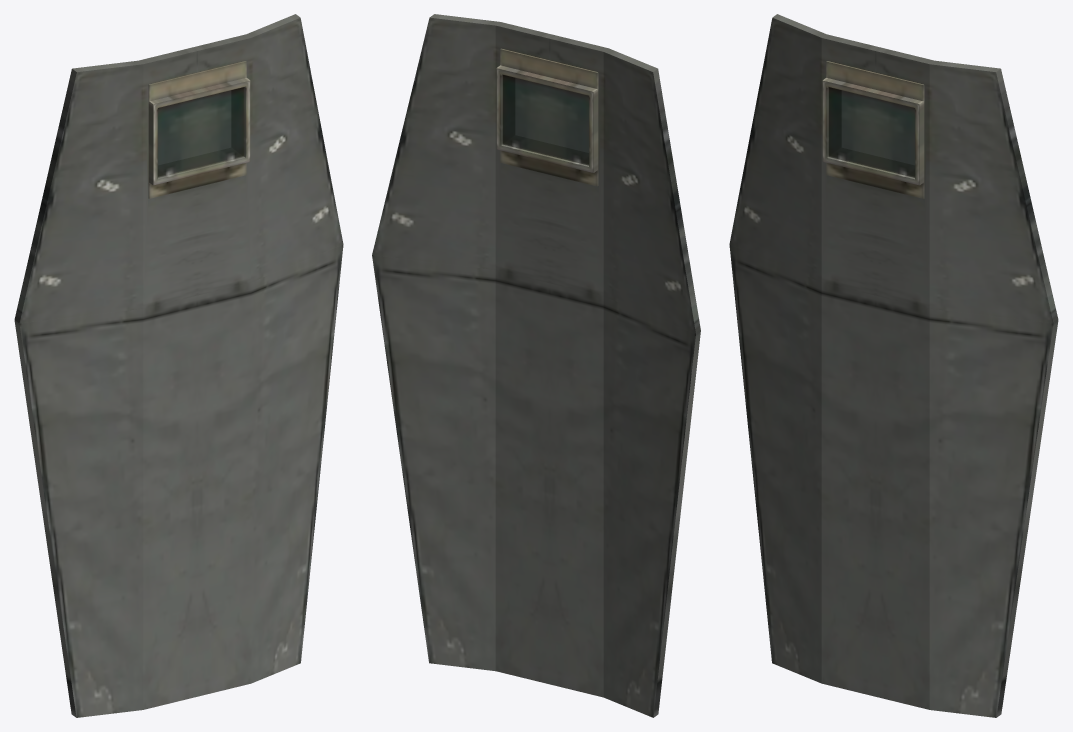
Rendered from shield.gltf.
The picture shows the model from 3 angles, left to right: view 1: azimuth 30°, elevation 25°; view 2: azimuth 150°, elevation 25°; view 3: azimuth 330°, elevation 25°; orthographic projection.
Visible parts, largest first — view 1: Shield.001; view 2: Shield.001; view 3: Shield.001.
Boxes of the visible parts, box(x1,y1,x2,y2) form: Shield.001: box(14, 14, 343, 717); Shield.001: box(372, 14, 700, 717); Shield.001: box(729, 14, 1058, 717).
Bounding box in the file's own units: 0.8669 × 1.65 × 0.1174.
Materials: 1 (1 with a texture image).
